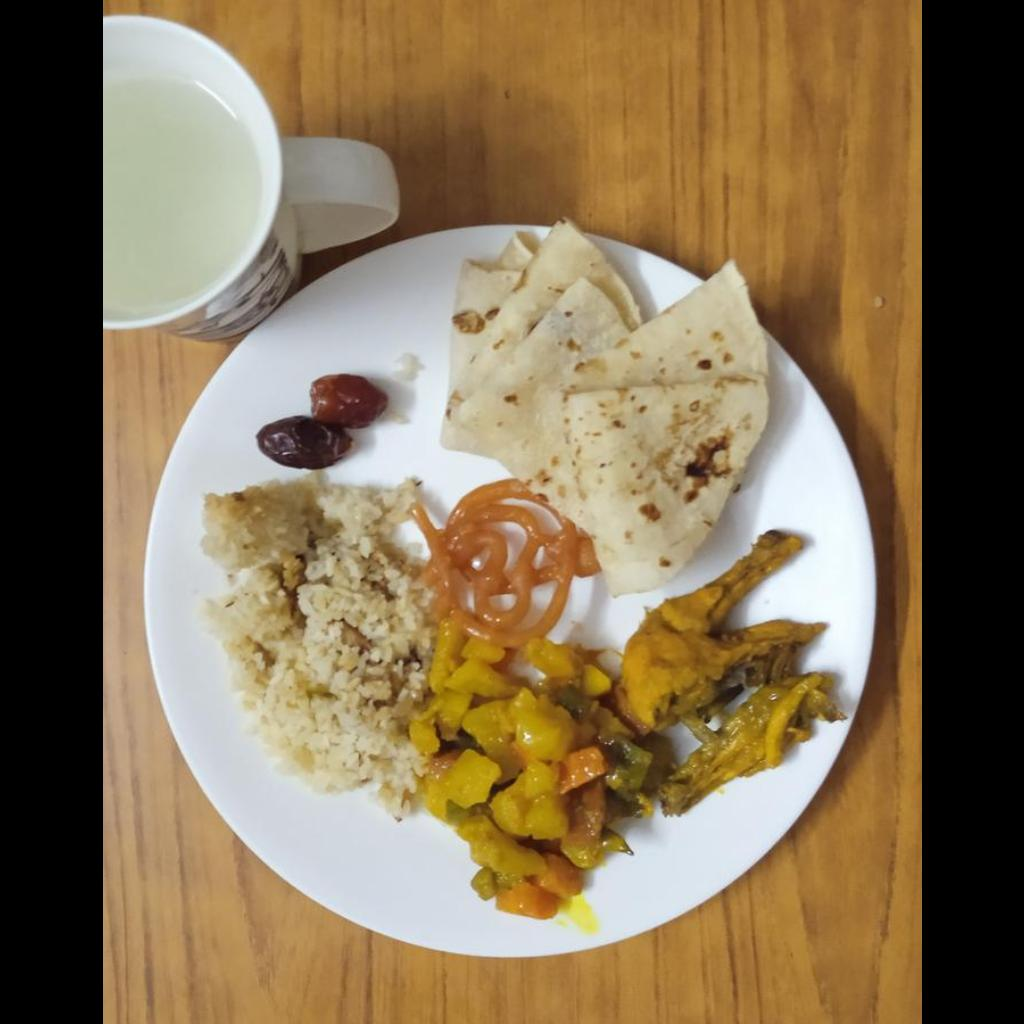chicken: (620, 531, 839, 821)
dates: (254, 374, 384, 467)
jilapi: (407, 485, 573, 645)
rice: (199, 478, 409, 812)
ruti: (436, 220, 776, 598)
vegetable: (407, 633, 647, 915)
